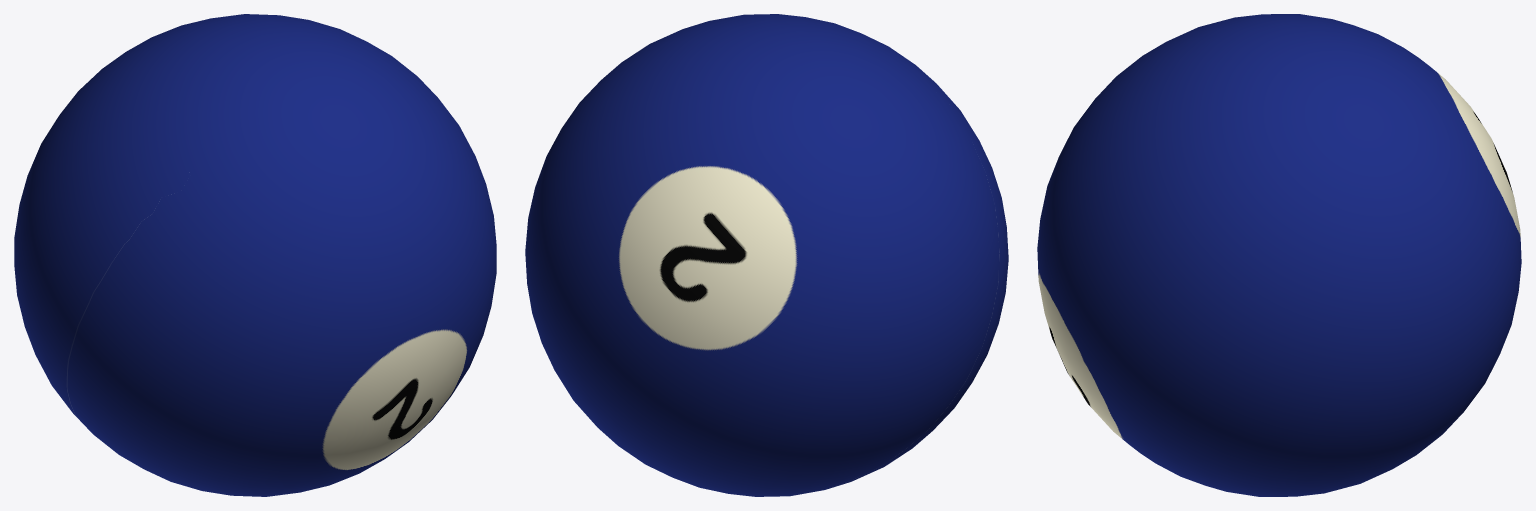
The model's file is bola3.obj.
The picture shows the model from 3 angles, left to right: view 1: azimuth 30°, elevation 25°; view 2: azimuth 150°, elevation 25°; view 3: azimuth 270°, elevation 25°; orthographic projection.
Visible parts, largest first — view 1: 2_Ball; view 2: 2_Ball; view 3: 2_Ball.
Boxes of the visible parts, x1,y1,x2,y2 form: 2_Ball: (14, 14, 496, 496); 2_Ball: (525, 14, 1008, 496); 2_Ball: (1037, 14, 1521, 496).
Bounding box in the file's own units: 0.0509 × 0.0509 × 0.0509.
1 material, 1 textured.
